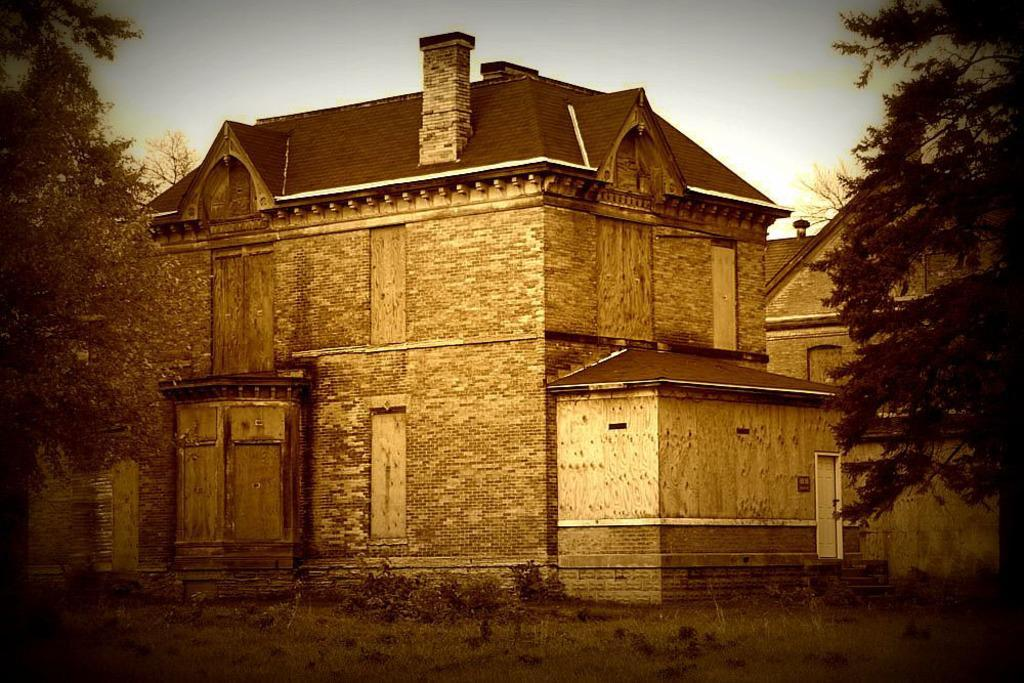door: (816, 458, 837, 558)
